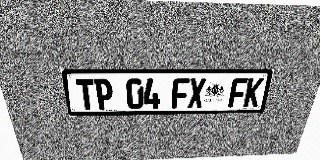0: (126, 78, 143, 109)
4: (144, 78, 161, 109)
F: (228, 78, 248, 107), (171, 78, 189, 108)
K: (243, 78, 264, 107)
P: (94, 79, 114, 110)
T: (75, 79, 97, 110)
X: (187, 78, 206, 108)
